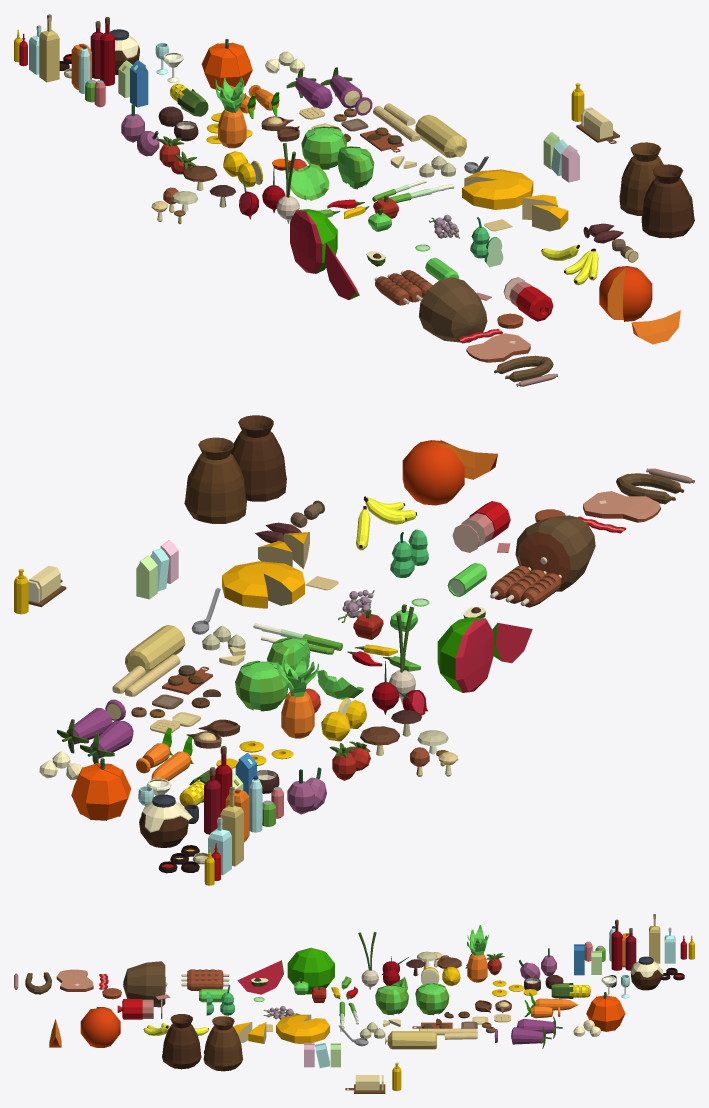
The model's file is nowe textury.fbx.
3 views of the same model, one above another, from view 1: azimuth 30°, elevation 25°; view 2: azimuth 150°, elevation 25°; view 3: azimuth 270°, elevation 25° (orthographic). The views are drawn at different scales.
Parts seen in each view (by area): view 1: Sphere087, Cone001, Sphere176, Sphere144, Sphere077, Cone002, Sphere185, Sphere108, Box219, Box223, Sphere136, Sphere178 (+16 smaller); view 2: Cone002, Sphere087, Cone001, Sphere144, Sphere176, Sphere077, Sphere185, Sphere108, Sphere109, Box223, Box219, Torus008 (+16 smaller); view 3: Cone002, Cone001, Sphere144, Sphere087, Sphere176, Sphere077, Sphere185, Box219, Sphere108, Sphere109, Sphere136, Sphere145 (+17 smaller).
Boxes of the visible parts, x1,y1,x2,y2 form: Sphere087: [419, 277, 487, 342]; Cone001: [641, 164, 694, 238]; Sphere176: [599, 266, 652, 321]; Sphere144: [290, 209, 337, 273]; Sphere077: [462, 169, 533, 209]; Cone002: [619, 142, 663, 215]; Sphere185: [201, 42, 252, 90]; Sphere108: [301, 126, 346, 169]; Box219: [415, 114, 466, 157]; Box223: [466, 333, 530, 362]; Sphere136: [337, 146, 374, 189]; Sphere178: [288, 163, 329, 200]; Cone002: [184, 437, 246, 523]; Sphere087: [515, 515, 595, 591]; Cone001: [230, 415, 286, 501]; Sphere144: [437, 617, 493, 692]; Sphere176: [402, 440, 464, 505]; Sphere077: [222, 561, 304, 608]; Sphere185: [71, 763, 131, 820]; Sphere108: [235, 660, 288, 711]; Sphere109: [139, 794, 192, 847]; Box223: [583, 491, 660, 522]; Box219: [125, 625, 185, 673]; Torus008: [616, 473, 684, 504]; Cone002: [203, 1016, 242, 1071]; Cone001: [162, 1014, 201, 1069]; Sphere144: [287, 947, 334, 994]; Sphere087: [123, 961, 167, 1007]; Sphere176: [80, 1007, 120, 1047]; Sphere077: [276, 1014, 329, 1043]; Sphere185: [586, 995, 625, 1031]; Box219: [385, 1031, 436, 1049]; Sphere108: [415, 983, 449, 1015]; Sphere109: [630, 956, 663, 990]; Sphere136: [375, 985, 408, 1015]; Sphere145: [237, 960, 283, 994].
Bounding box in the file's own units: 965 × 231 × 1868.
